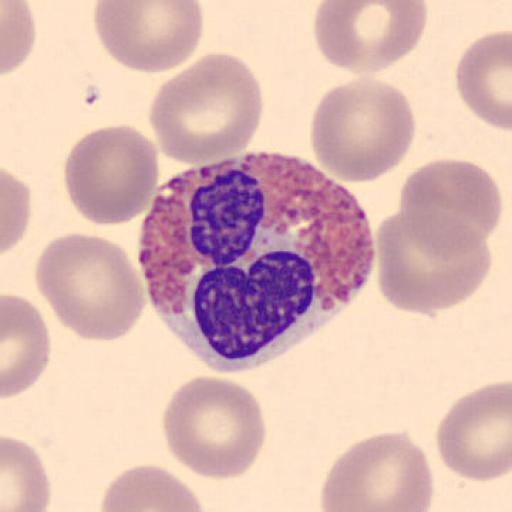RBC: (148, 51, 264, 168), (376, 209, 493, 317), (35, 232, 146, 342), (308, 76, 416, 185), (161, 374, 267, 481), (62, 123, 160, 228), (398, 157, 502, 249), (320, 430, 434, 512), (376, 209, 459, 317), (313, 0, 428, 76), (93, 1, 206, 74), (435, 379, 512, 484), (453, 27, 512, 131), (99, 462, 206, 512), (419, 455, 512, 512), (2, 294, 52, 400), (1, 434, 52, 512), (1, 0, 37, 76), (2, 166, 32, 256)
WBC: (139, 157, 376, 373)
